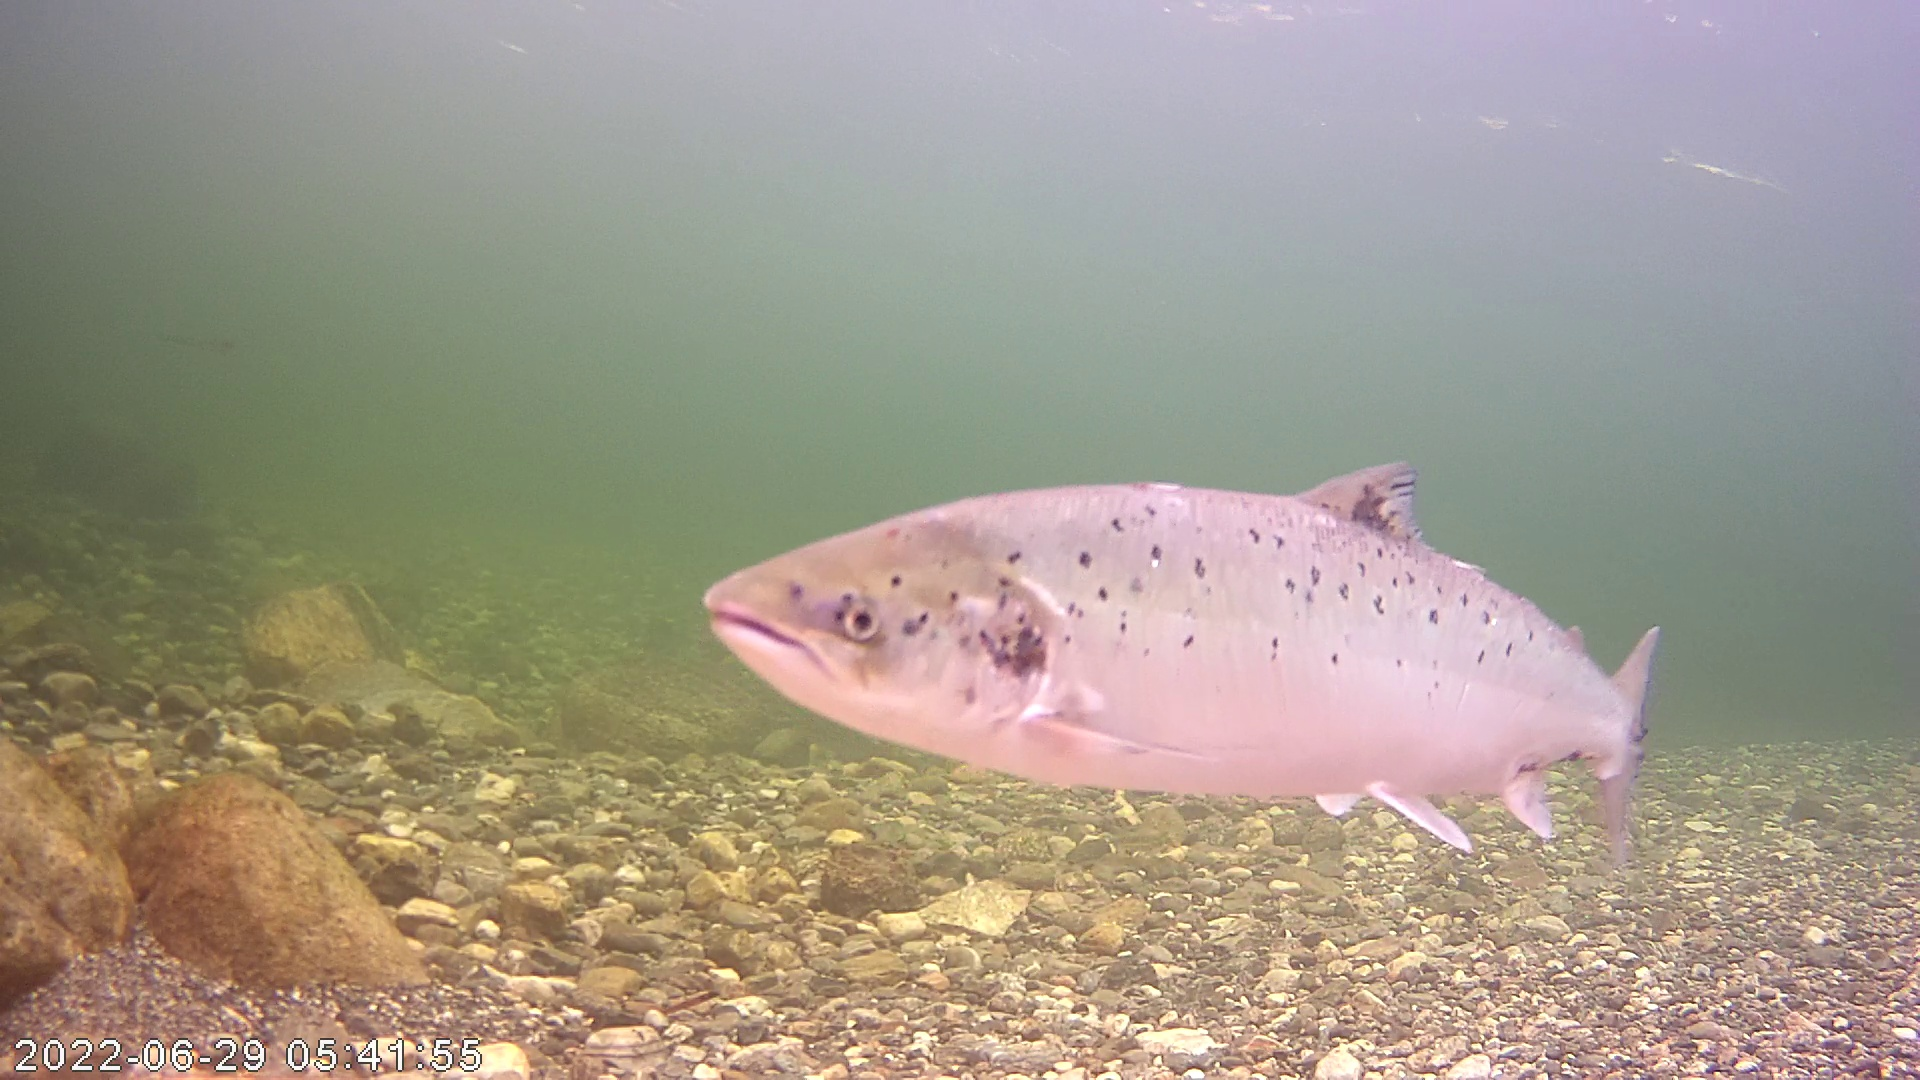salmon: (700, 302, 1673, 812)
